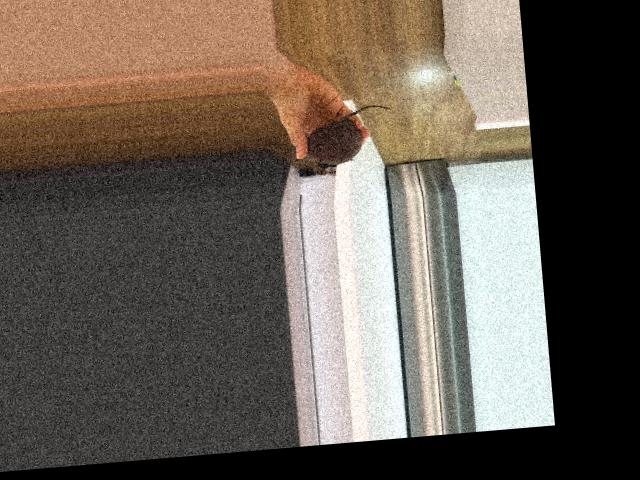beet: (304, 103, 395, 169)
